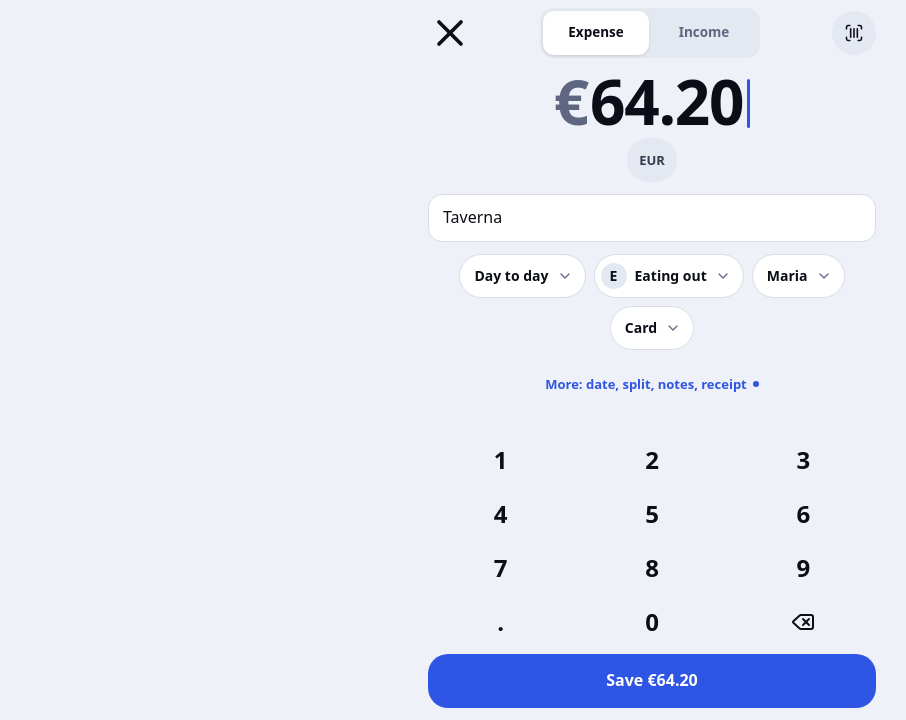
Scenario: /new?from= copies an entry as a new one dated today with a fresh client_id
This screenshot has width=906, height=720.
Click the button with aria-label "Save 64 euro 20 to Day to day".
click(652, 681)  # box 428,654 -> 876,708
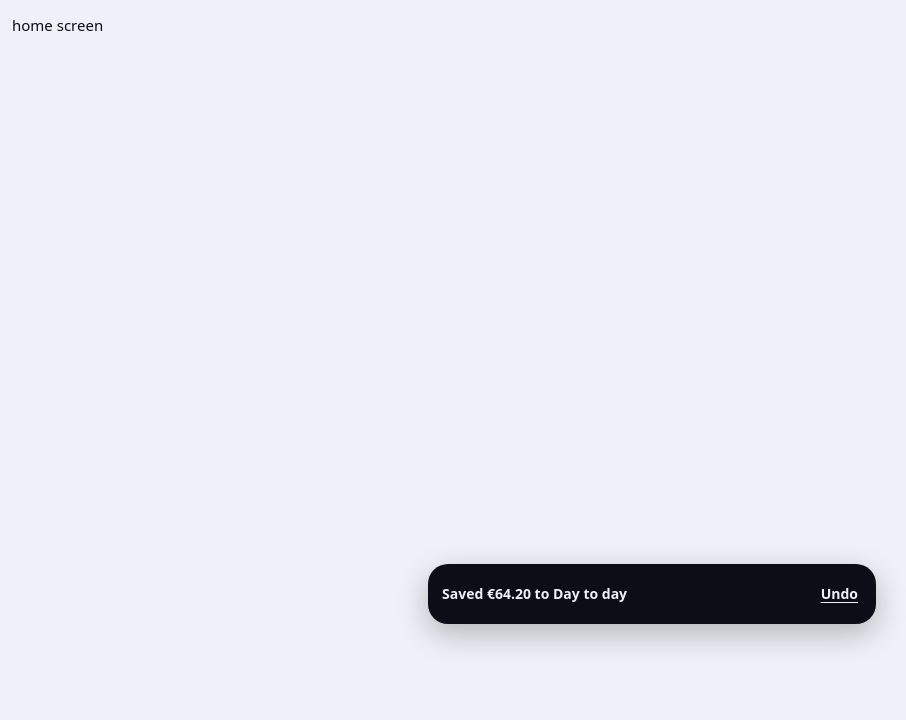
Expected: the text "home screen" is shown, 12,15 -> 103,35
